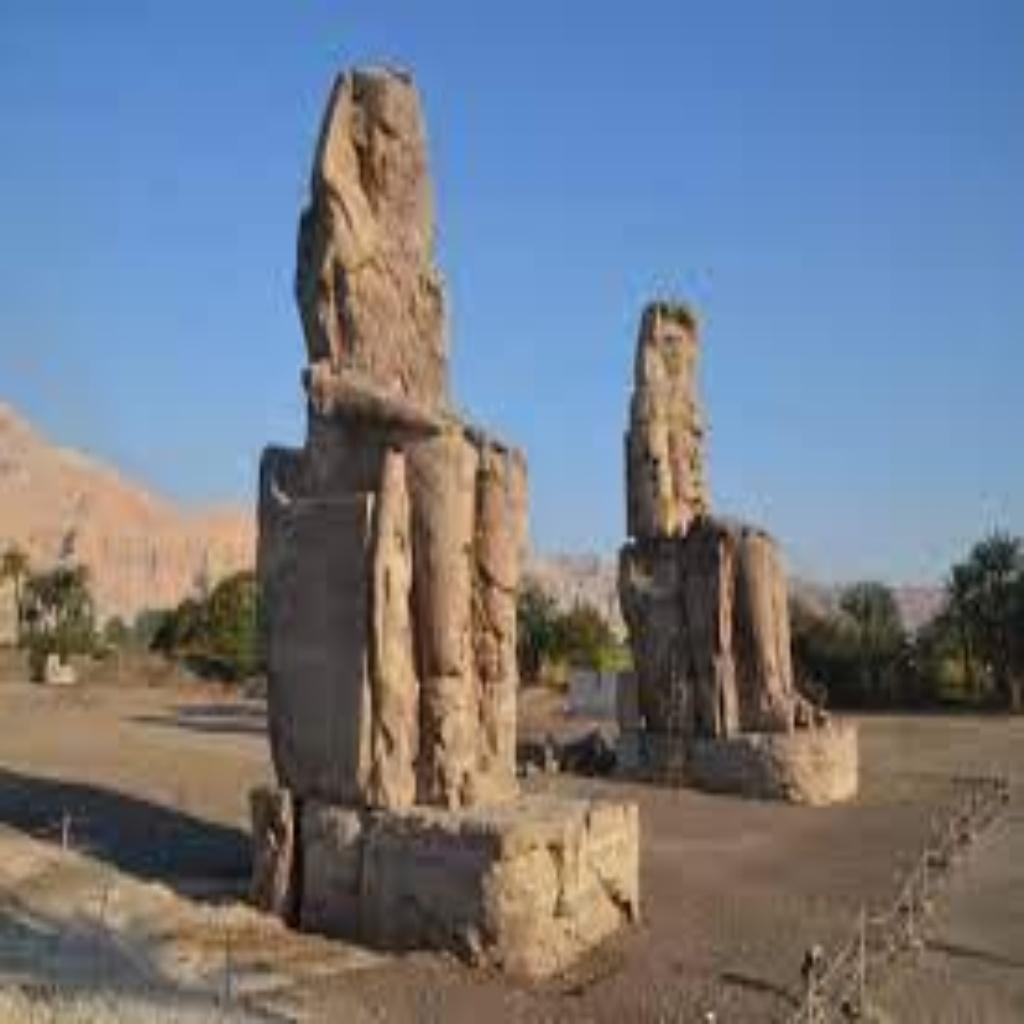Colossoi of Memnon: (241, 50, 642, 968), (624, 271, 866, 818)
